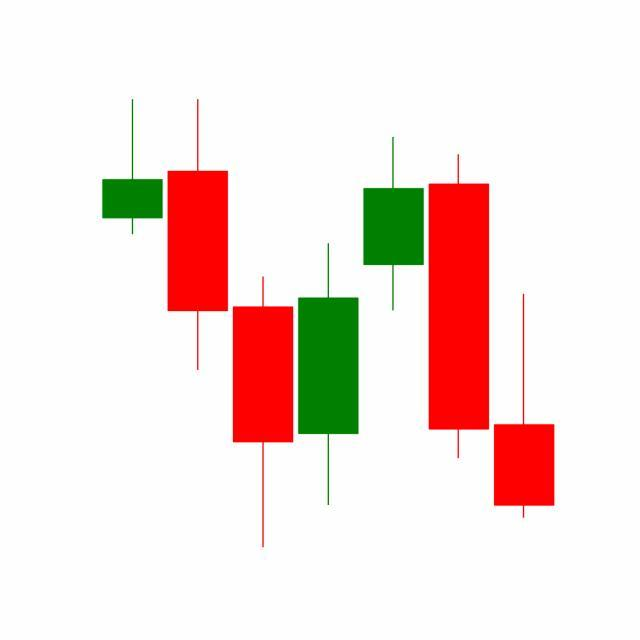Three Outside Up-Down: (360, 133, 556, 523)
